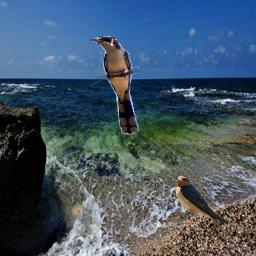Cuckoo: (90, 36, 139, 135)
Swallow: (175, 175, 236, 244)
